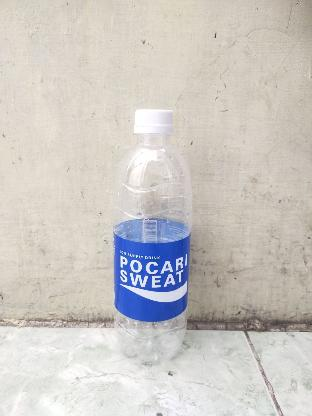Plastic Bottle: (112, 108, 192, 364)
